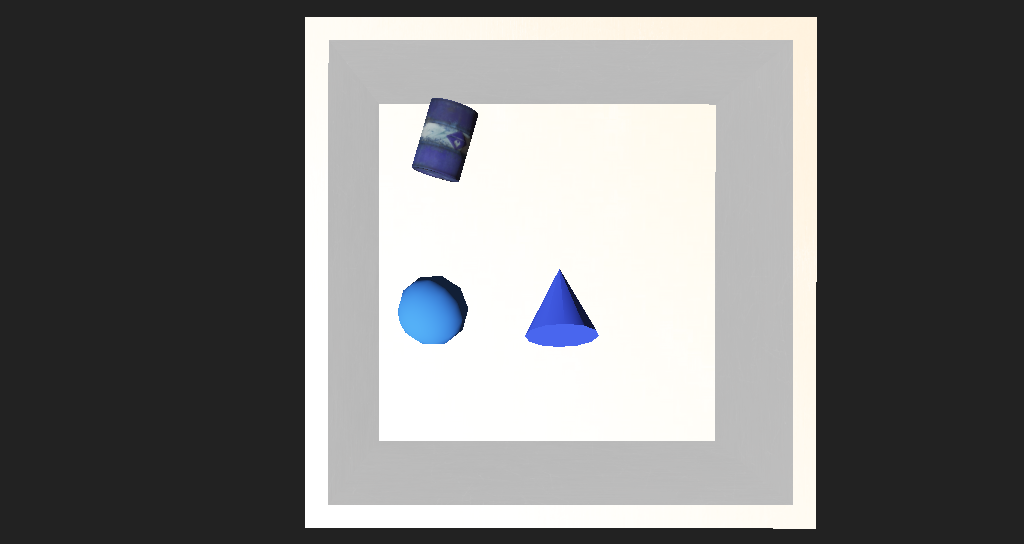cone: (377, 153, 445, 210)
cylinder: (488, 260, 549, 322)
sphere: (374, 267, 435, 315)
